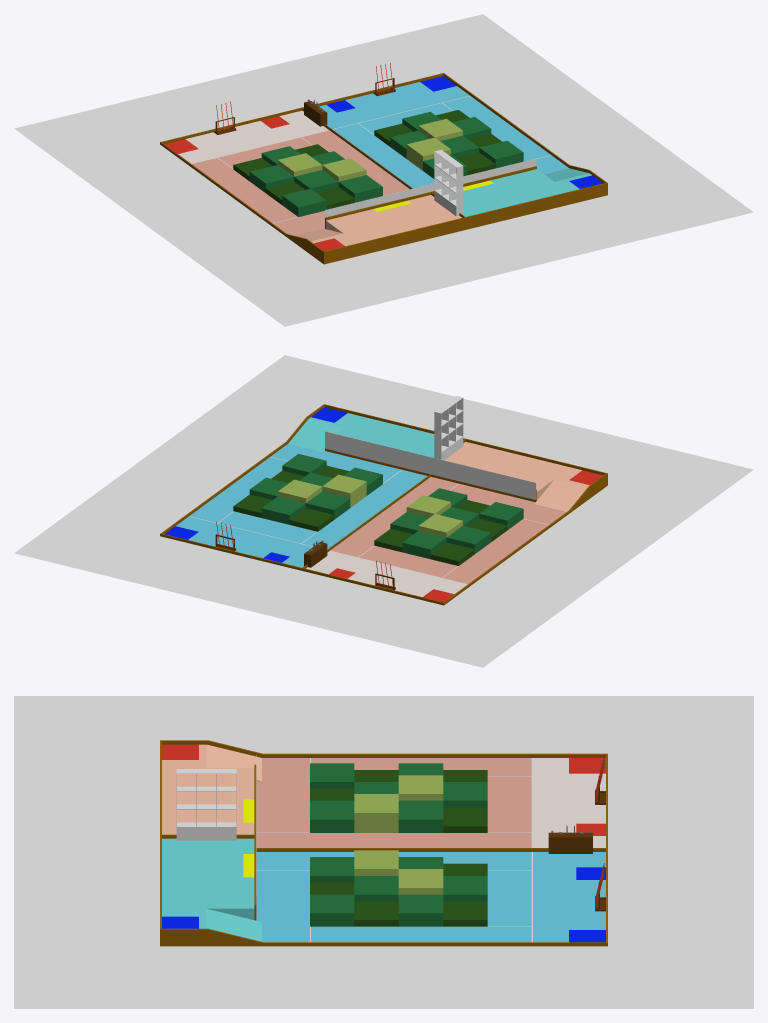
The model's file is robocon2026_map_new_10_29.dae.
The picture shows the model from 3 angles, top to bottom: view 1: azimuth 30°, elevation 25°; view 2: azimuth 150°, elevation 25°; view 3: azimuth 270°, elevation 25°; orthographic projection. The views are drawn at different scales.
Visible parts, largest first — view 1: 平面.005, 主地图, 平面.006, 区域三放置架, 主地图.002, 2-3区围栏; view 2: 平面.005, 主地图, 平面.006, 主地图.002, 区域三放置架, 2-3区围栏; view 3: 平面.005, 主地图, 平面.006, 区域三放置架, 立方体, 2-3区围栏.
Boxes of the visible parts, x1,y1,x2,y2 form: 平面.005: (14,14,753,326); 主地图: (165,76,602,251); 平面.006: (160,73,607,264); 区域三放置架: (434,149,463,216); 主地图.002: (325,158,536,217); 2-3区围栏: (325,166,536,228); 平面.005: (14,355,753,667); 主地图: (165,407,602,602); 平面.006: (160,404,607,605); 主地图.002: (325,431,536,499); 区域三放置架: (434,396,463,460); 2-3区围栏: (325,439,536,502); 平面.005: (14,696,753,1008); 主地图: (162,744,605,942); 平面.006: (160,740,607,946); 区域三放置架: (176,769,236,840); 立方体: (548,832,592,853); 2-3区围栏: (162,764,256,920).
Bounding box in the file's own units: 20 × 20 × 2.42.
